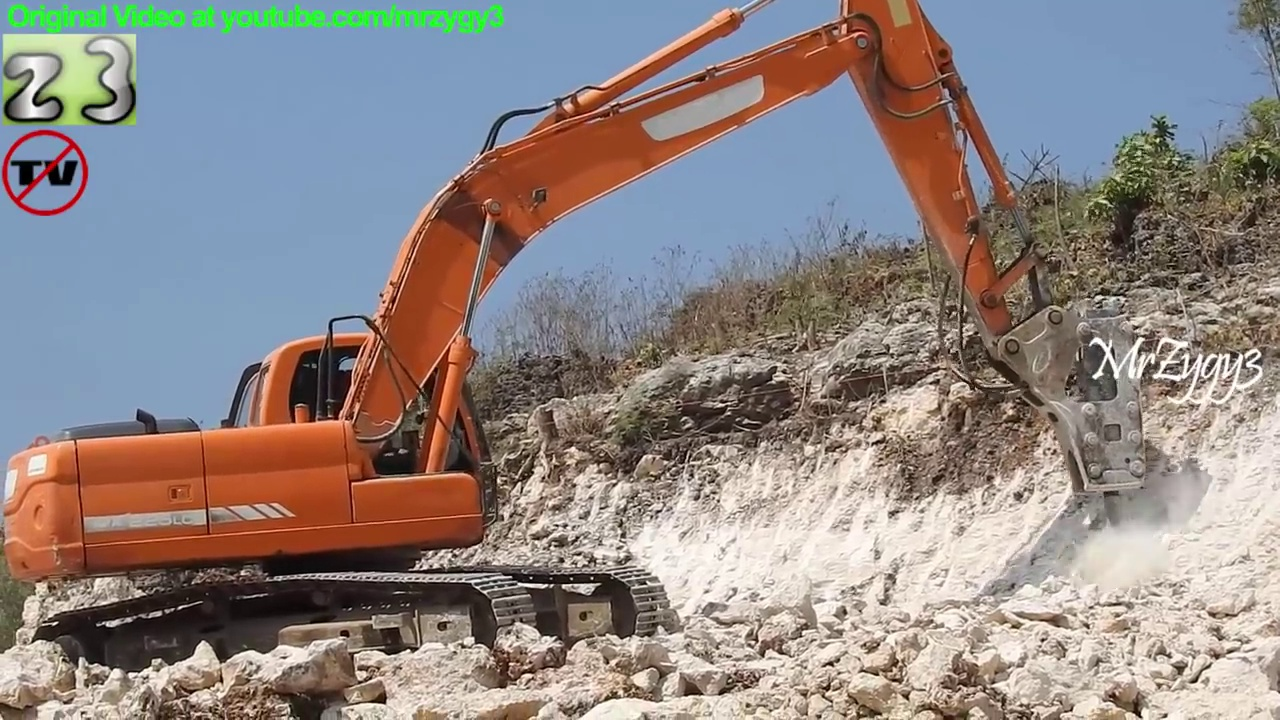excavator breaker: (1, 1, 1157, 709)
